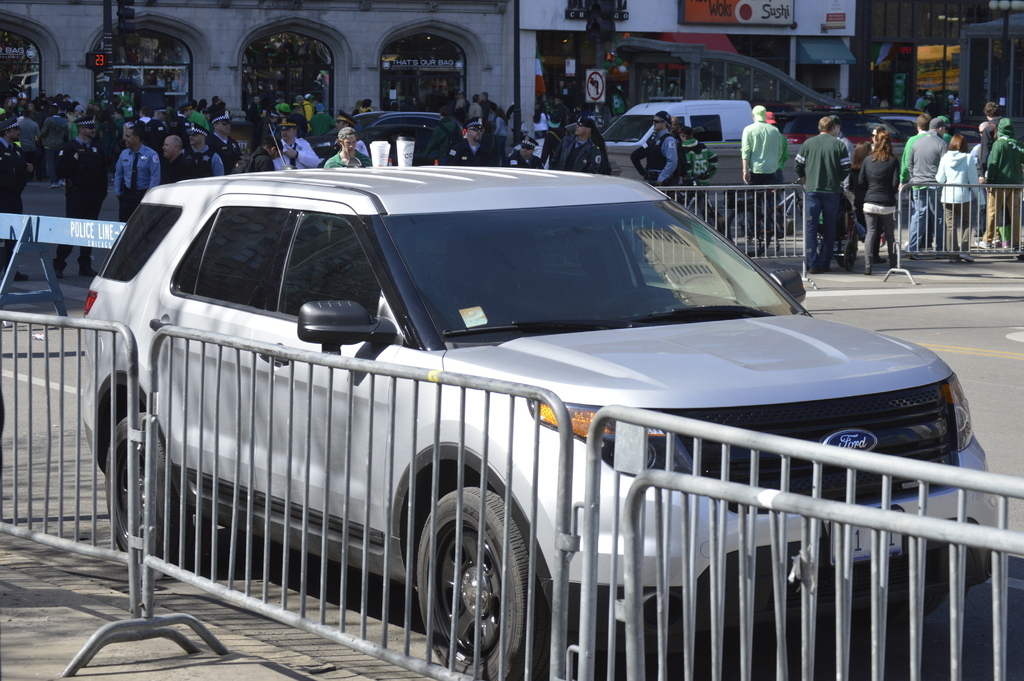mobil: (103, 174, 1001, 662)
